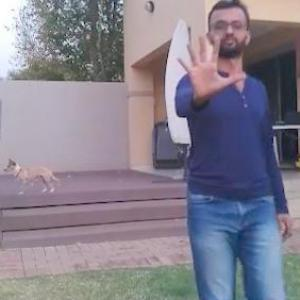follow_hand: (176, 30, 246, 102)
